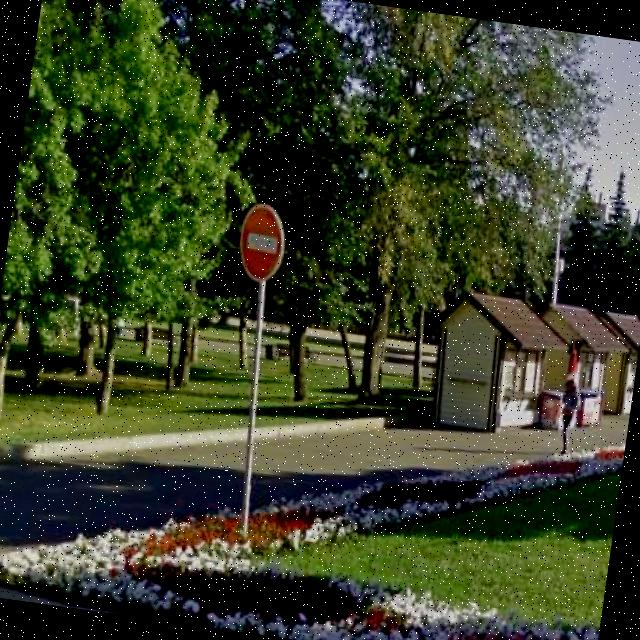Zakaz wjazdu: (232, 198, 292, 288)
